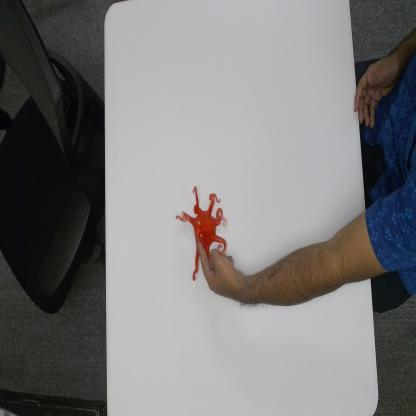Arm: (253, 204, 372, 309)
Hand: (197, 238, 252, 303)
Octopus: (175, 183, 228, 281)
